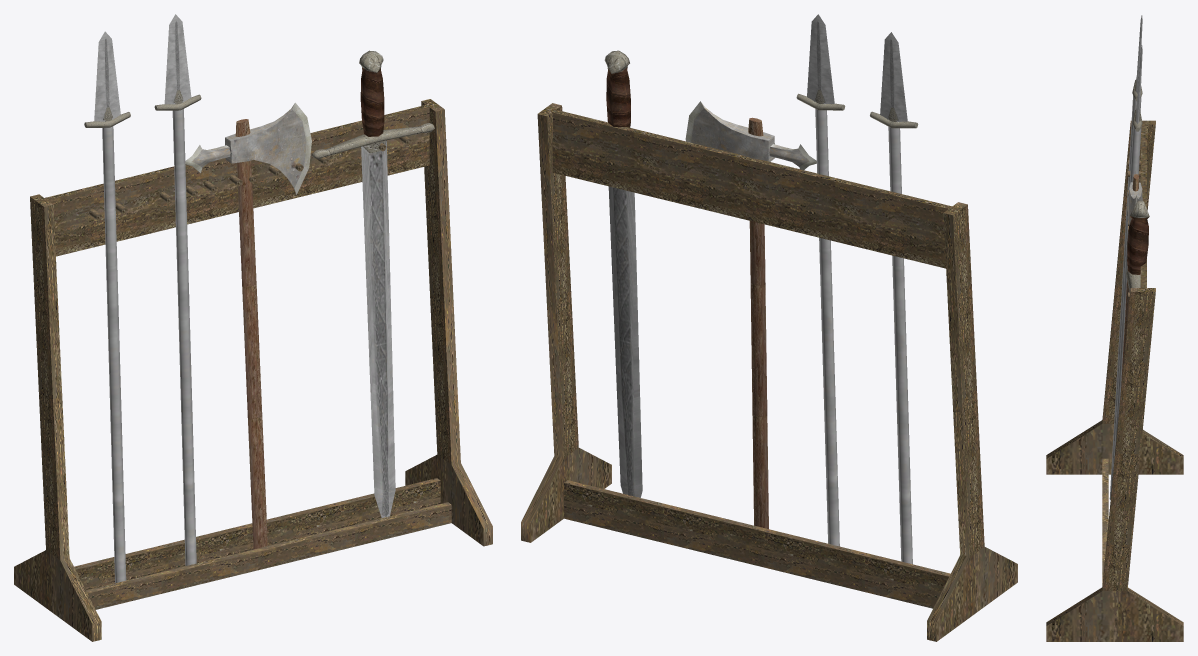
The model's file is rackB.fbx.
3 views of the same model, side by side, from view 1: azimuth 30°, elevation 25°; view 2: azimuth 150°, elevation 25°; view 3: azimuth 270°, elevation 25° (orthographic). The views are drawn at different scales.
Visible parts, largest first — view 1: rackB; view 2: rackB; view 3: rackB.
Boxes of the visible parts, left/top/right/bottom form: rackB: left=14, top=14, right=492, bottom=641; rackB: left=521, top=14, right=1017, bottom=641; rackB: left=1046, top=15, right=1183, bottom=641.
Size of the model in its own units: 1.5 by 1.99 by 0.5095.
3 materials, 3 textured.
